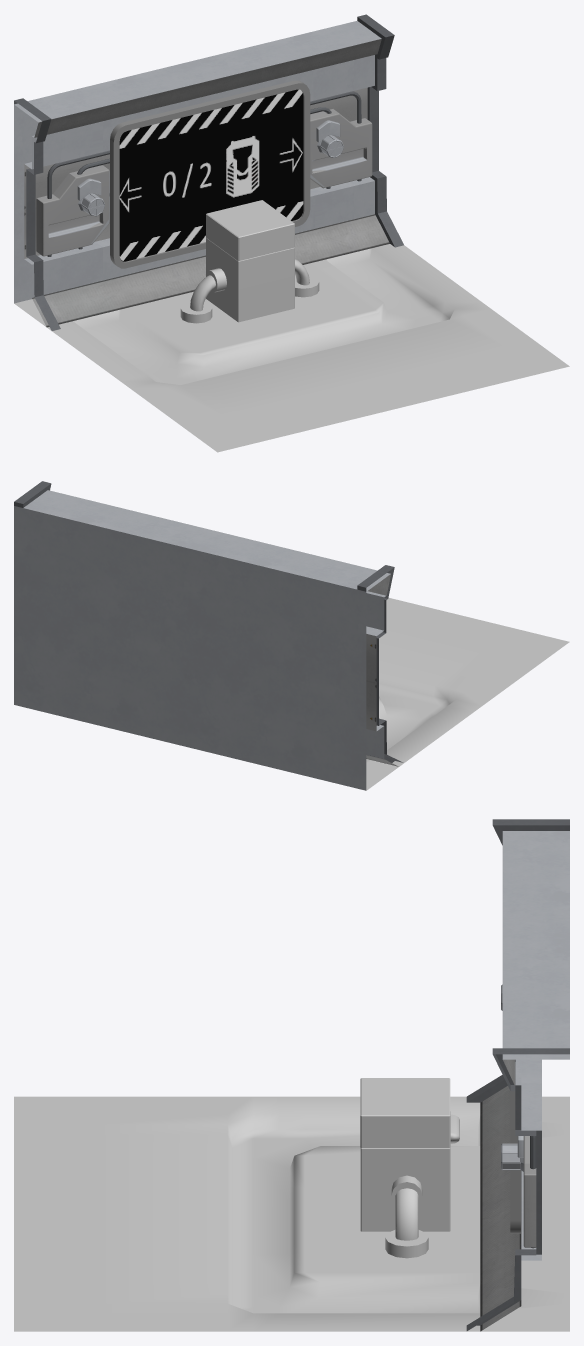
Rendered from selfDestructButtonTile.fbx.
The picture shows the model from 3 angles, top to bottom: view 1: azimuth 30°, elevation 25°; view 2: azimuth 150°, elevation 25°; view 3: azimuth 270°, elevation 25°; orthographic projection. The views are drawn at different scales.
Parts seen in each view (by area): view 1: Floor1, SDTile, monitor, buttonStand, panel1, casing1, panel2; view 2: SDTile, Floor1; view 3: Floor1, SDTile, buttonStand, casing1, panel2, monitor.
Part boxes in pixels (x1,y1,x2,y2): Floor1: [14, 244, 569, 452]; SDTile: [14, 14, 403, 330]; monitor: [110, 80, 310, 268]; buttonStand: [180, 238, 319, 323]; panel1: [36, 165, 109, 256]; casing1: [206, 200, 294, 260]; panel2: [310, 109, 372, 188]; SDTile: [14, 481, 403, 790]; Floor1: [366, 597, 569, 790]; Floor1: [14, 1096, 569, 1331]; SDTile: [466, 819, 569, 1331]; buttonStand: [360, 1111, 450, 1258]; casing1: [360, 1078, 459, 1147]; panel2: [523, 1136, 536, 1247]; monitor: [510, 1091, 520, 1233].
Size of the model in its own units: 6 by 3.47 by 6.
